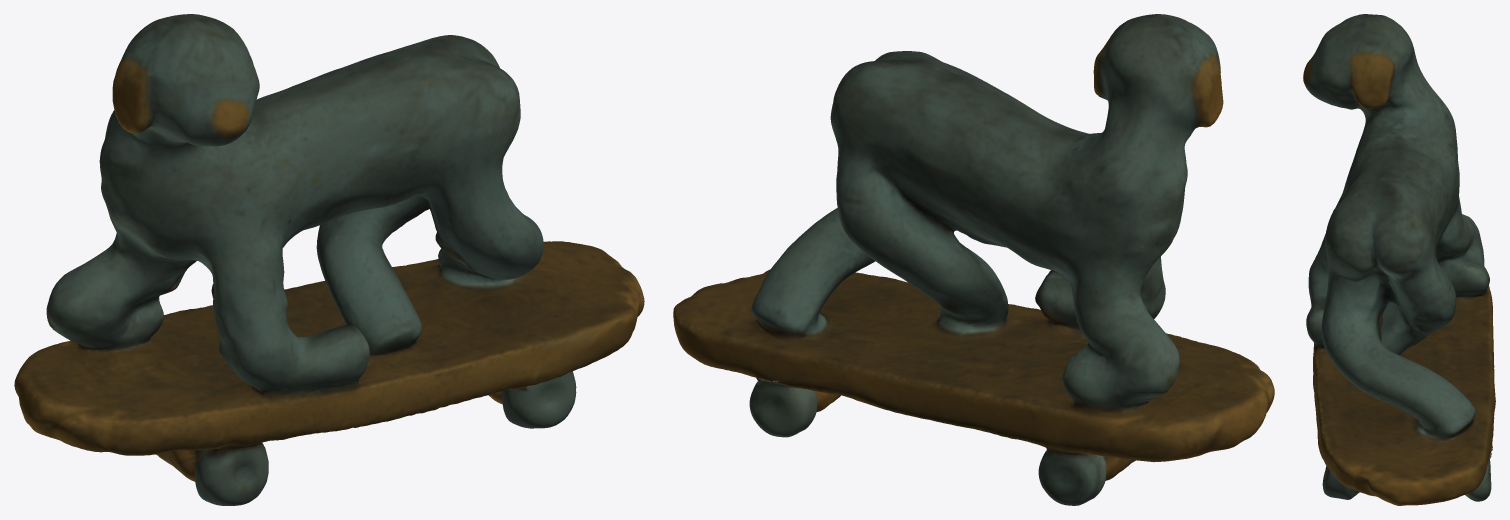
Rendered from new-dog.glb.
The picture shows the model from 3 angles, left to right: view 1: azimuth 30°, elevation 25°; view 2: azimuth 150°, elevation 25°; view 3: azimuth 270°, elevation 25°; orthographic projection. The views are drawn at different scales.
Visible parts, largest first — view 1: Group43843; view 2: Group43843; view 3: Group43843.
Part boxes in pixels (<box>): Group43843: <box>14,14,644,505</box>; Group43843: <box>673,14,1274,505</box>; Group43843: <box>1303,14,1495,505</box>.
Bounding box in the file's own units: 130 × 97.28 × 47.62.
Materials: 1 (1 with a texture image).
